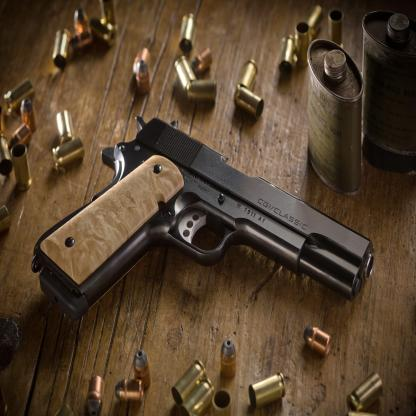handgun: (31, 114, 376, 320)
